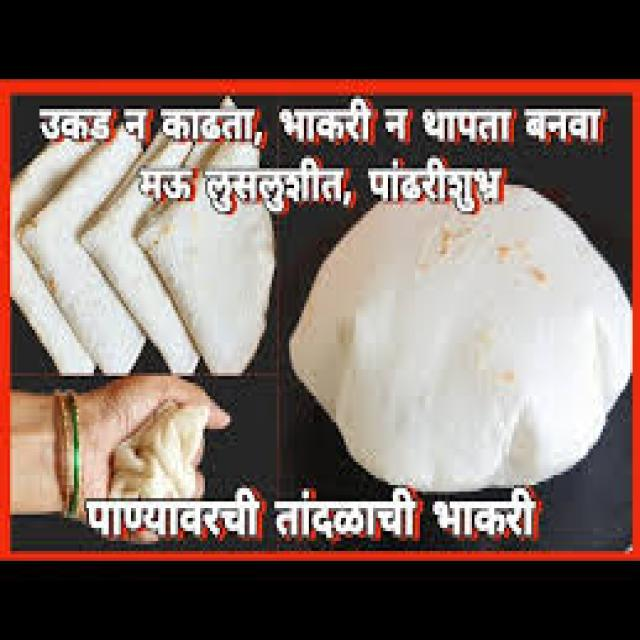RICE BHAKRI: (292, 185, 630, 488), (22, 142, 143, 369), (138, 172, 272, 373), (82, 158, 195, 369), (10, 142, 94, 373)
